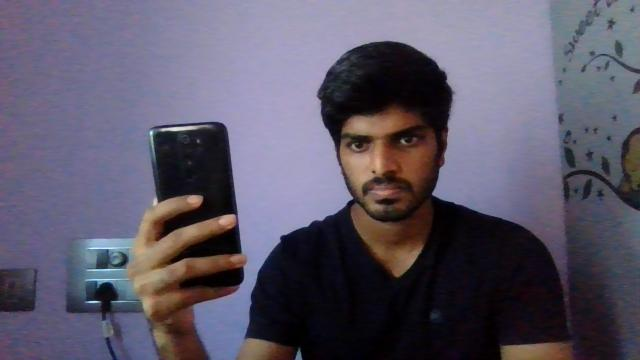PhoneUse: (146, 120, 248, 294)
SafeDriving: (389, 127, 426, 152), (341, 130, 376, 156)
